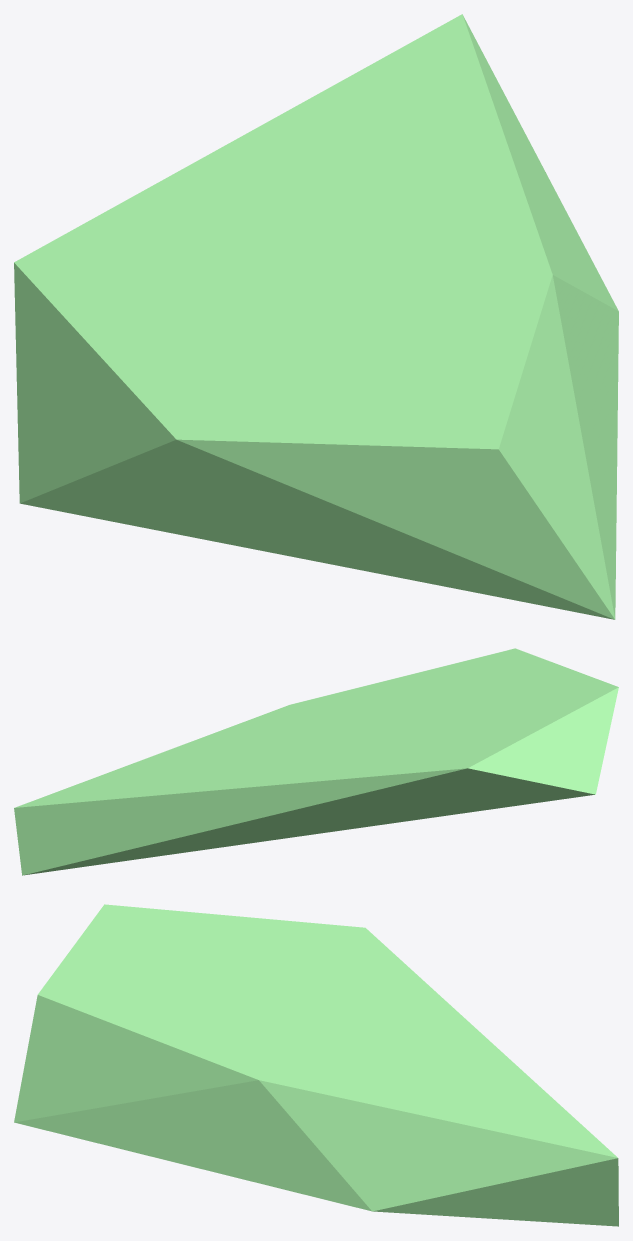
File: UMIRobot_UMIRobot_link_3_convex_coll_31.dae
3 views of the same model, one above another, from view 1: azimuth 30°, elevation 25°; view 2: azimuth 150°, elevation 25°; view 3: azimuth 270°, elevation 25° (orthographic). The views are drawn at different scales.
Parts seen in each view (by area): view 1: node; view 2: node; view 3: node.
Boxes of the visible parts, <box> form: node: <box>14,14,618,619</box>; node: <box>14,648,618,875</box>; node: <box>14,904,618,1226</box>.
Size of the model in its own units: 0.0122 by 0.00315 by 0.0141.
